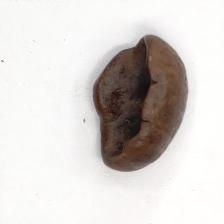NG: (93, 34, 157, 158)
